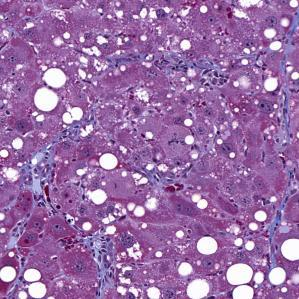fibrosis: (19, 151, 65, 208)
